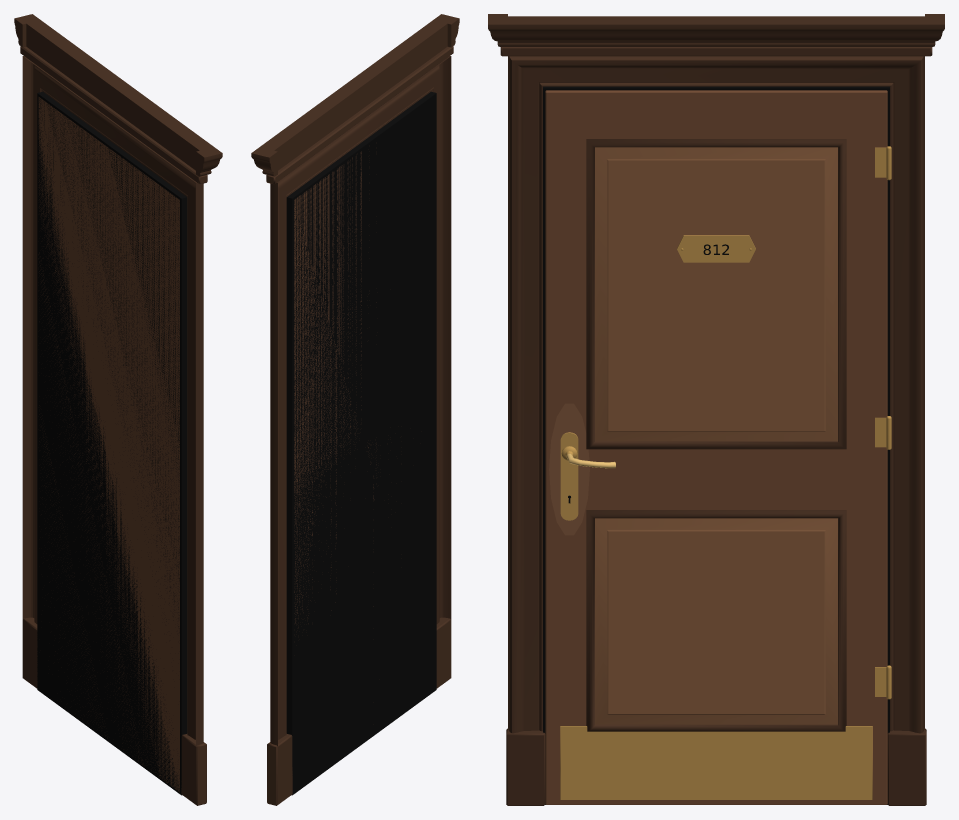
Rendered from hotel_door_c@1.glb.
3 views of the same model, side by side, from view 1: azimuth 30°, elevation 25°; view 2: azimuth 150°, elevation 25°; view 3: azimuth 270°, elevation 25° (orthographic). The views are drawn at different scales.
Visible parts, largest first — view 1: fuge, blatt, bekleidung, verdachung; view 2: fuge, bekleidung, blatt, verdachung; view 3: fuellungen, blatt, bekleidung, beschlag, verdachung, kehlleisten, fuge, abrieb, nummernschild.
Boxes of the visible parts, <box> form: fuge: <box>37,91,187,795</box>; blatt: <box>38,97,179,792</box>; bekleidung: <box>22,56,206,805</box>; verdachung: <box>14,14,222,184</box>; fuge: <box>286,91,436,795</box>; bekleidung: <box>267,56,451,805</box>; blatt: <box>294,151,376,627</box>; verdachung: <box>251,14,459,184</box>; fuellungen: <box>595,147,837,724</box>; blatt: <box>545,90,887,804</box>; bekleidung: <box>506,56,926,805</box>; beschlag: <box>560,146,891,799</box>; verdachung: <box>488,14,944,56</box>; kehlleisten: <box>586,139,846,731</box>; fuge: <box>543,86,889,804</box>; abrieb: <box>549,403,589,535</box>; nummernschild: <box>677,235,755,262</box>.
Size of the model in its own units: 0.1118 by 2.33 by 1.23.
